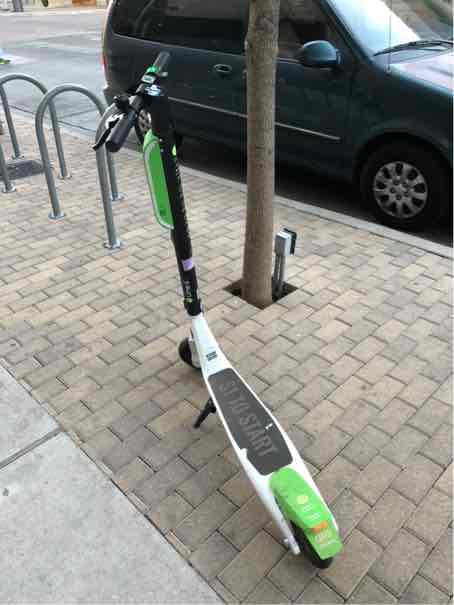scooter: (74, 45, 349, 572)
